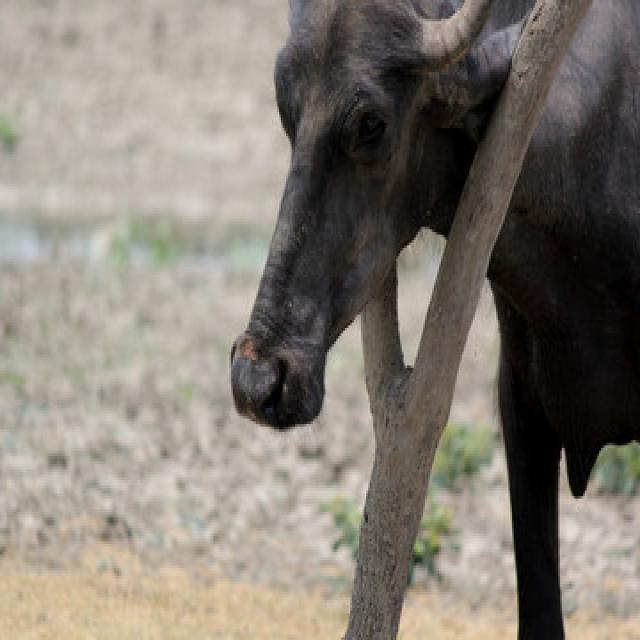Buffalo: (225, 0, 638, 637)
